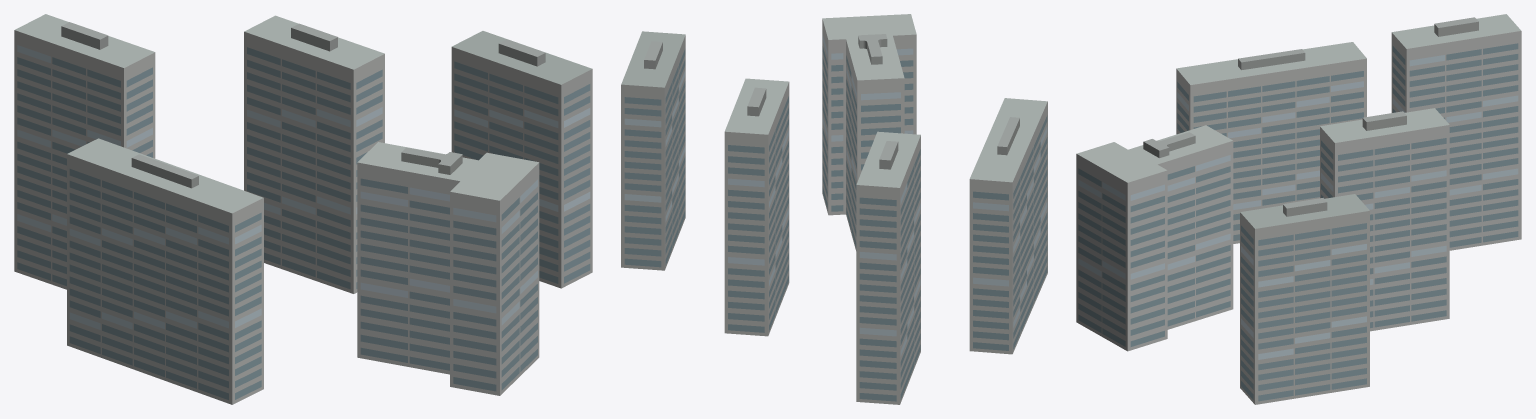
File: apt-a10027381.glb
3 views of the same model, side by side, from view 1: azimuth 30°, elevation 25°; view 2: azimuth 150°, elevation 25°; view 3: azimuth 270°, elevation 25° (orthographic). The views are drawn at different scales.
Parts seen in each view (by area): view 1: apt-a10027381; view 2: apt-a10027381; view 3: apt-a10027381.
Boxes of the visible parts, x1,y1,x2,y2 form: apt-a10027381: [14, 14, 592, 404]; apt-a10027381: [621, 14, 1047, 404]; apt-a10027381: [1076, 14, 1521, 404].
Size of the model in its own units: 115 by 59 by 109.
